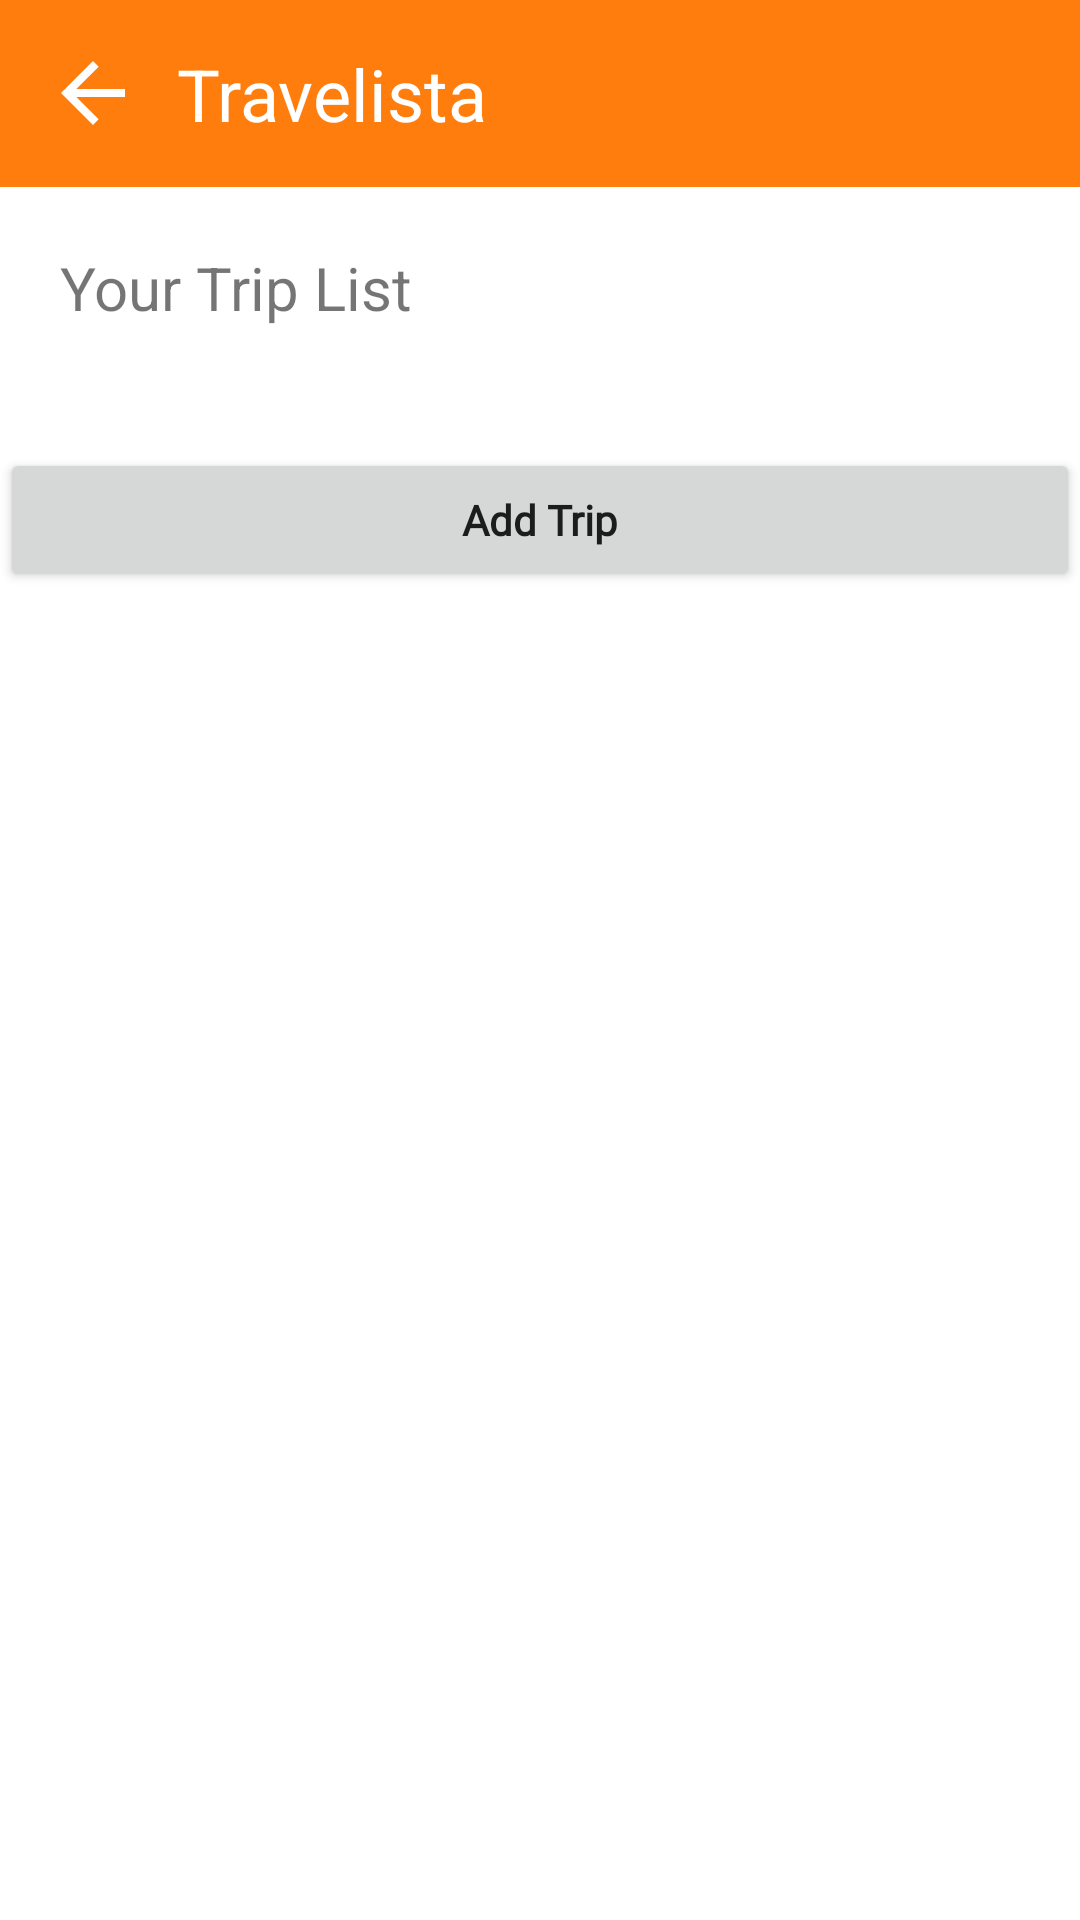

Where icons sit on this 1080w x 1920h app screen, as {"left": x1, "top": y1, "right": x2, "bottom": y2}:
back: {"left": 61, "top": 61, "right": 125, "bottom": 125}
